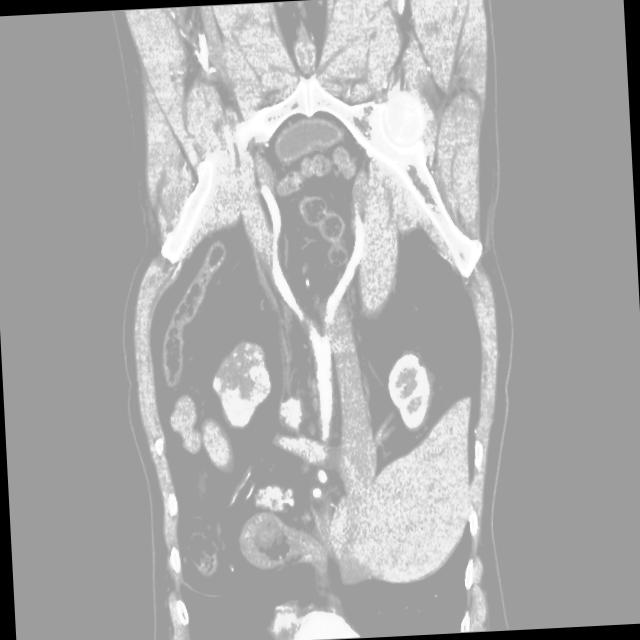TUMOR: (183, 318, 434, 465)
